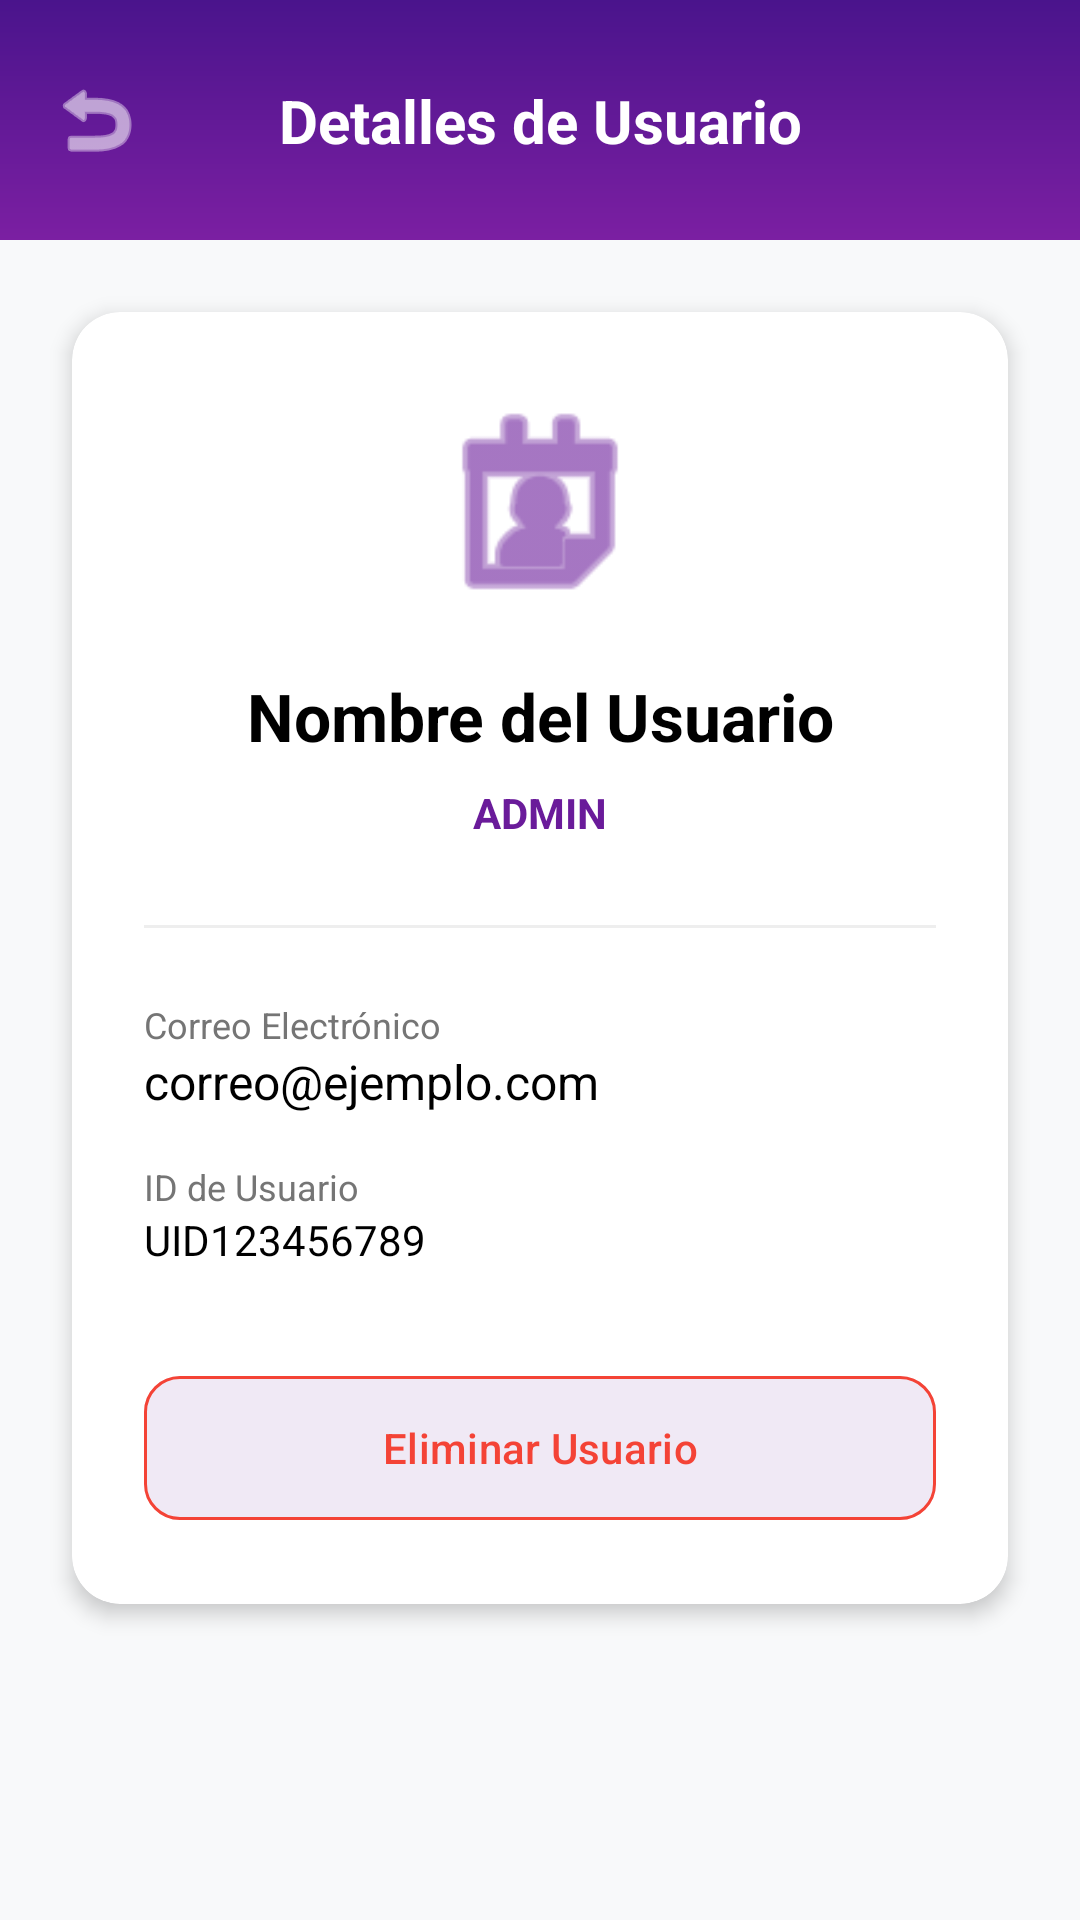

Where icons sit on this 1080px x 1920px app screen, as (x1, y1, x2, y2):
calendar: (462, 414, 618, 589)
